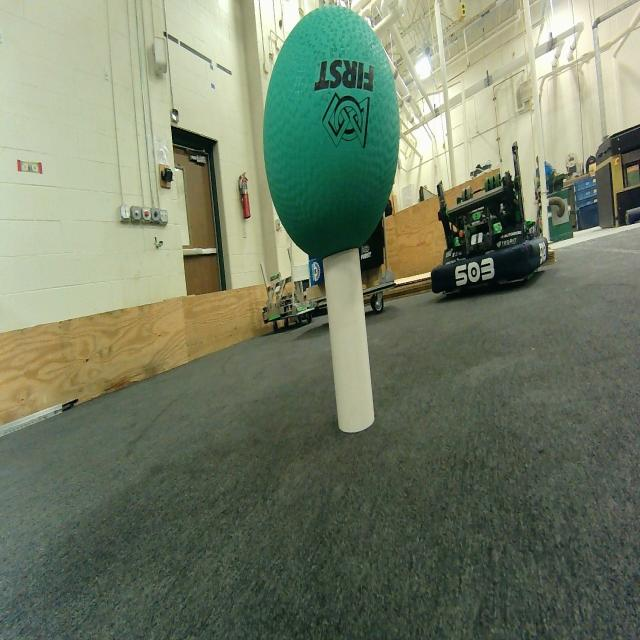algae: (260, 1, 406, 270)
coral: (319, 243, 394, 443)
